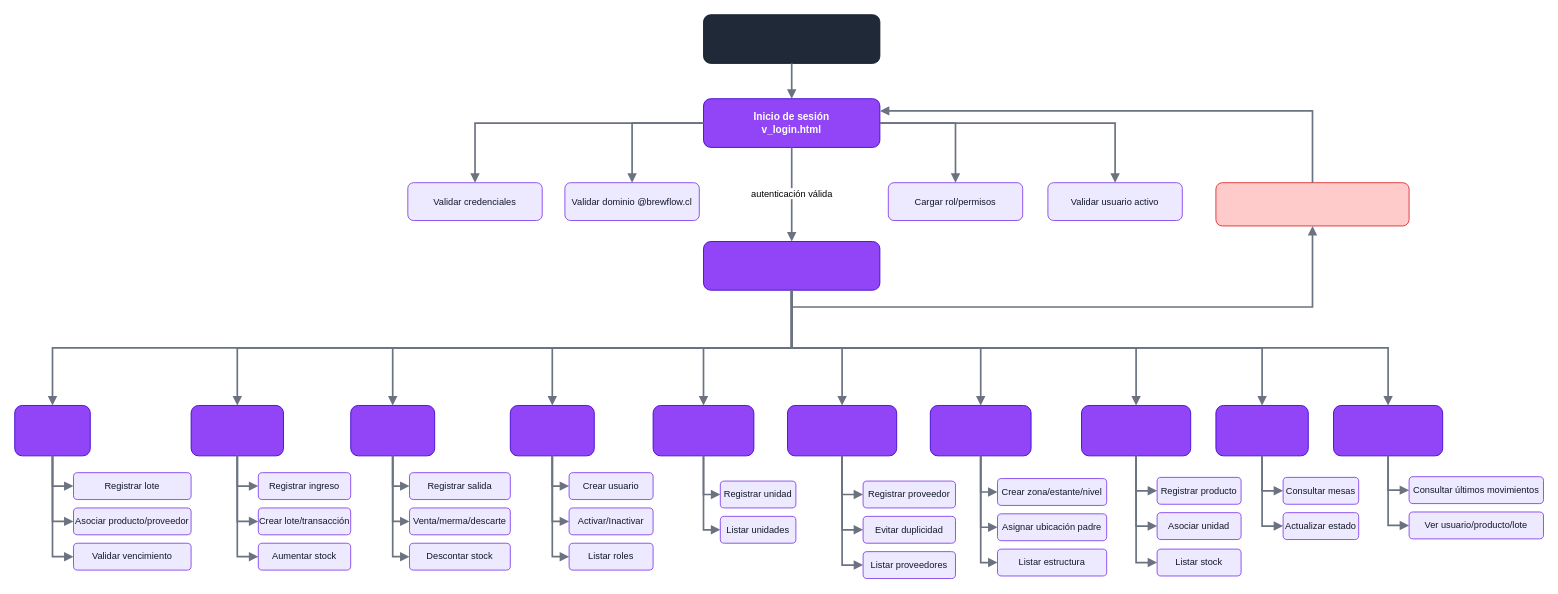
Image size: 1558x594. Some labels were removed from this diagram. The centre of each missing label's shape, as x and y in pixels:
BrewFlow Sistema web: (x=791, y=38)
Cerrar sesión limpia localStorage y vuelve a v_login.html: (x=1312, y=204)
Dashboard principal v_dashboard.html: (x=791, y=265)
Historial movimientos v_movimientos.html Consulta trazabilidad: (x=1388, y=430)
Ingresos de stock v_ingresos.html UR 4.2: (x=237, y=430)
Lotes v_lotes.html UR 3.2 - UR 4.1: (x=52, y=430)
Productos perecibles v_productos.html UR 3.1: (x=1136, y=430)
Proveedores v_proveedores.html UR 2.2: (x=842, y=430)
Salidas de stock v_salidas.html UR 4.3: (x=392, y=430)
Salón / Mesas v_salon.html Control visual: (x=1261, y=430)
Ubicaciones bodega v_ubicaciones.html UR 2.3: (x=980, y=430)
Unidades de medida v_unidades.html UR 2.1: (x=703, y=430)
Usuarios y roles v_usuarios.html UR 1.2: (x=551, y=430)
